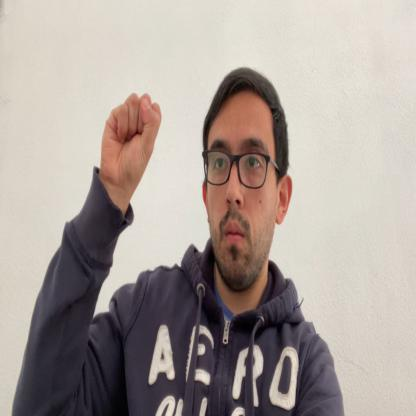S: (100, 92, 161, 200)
